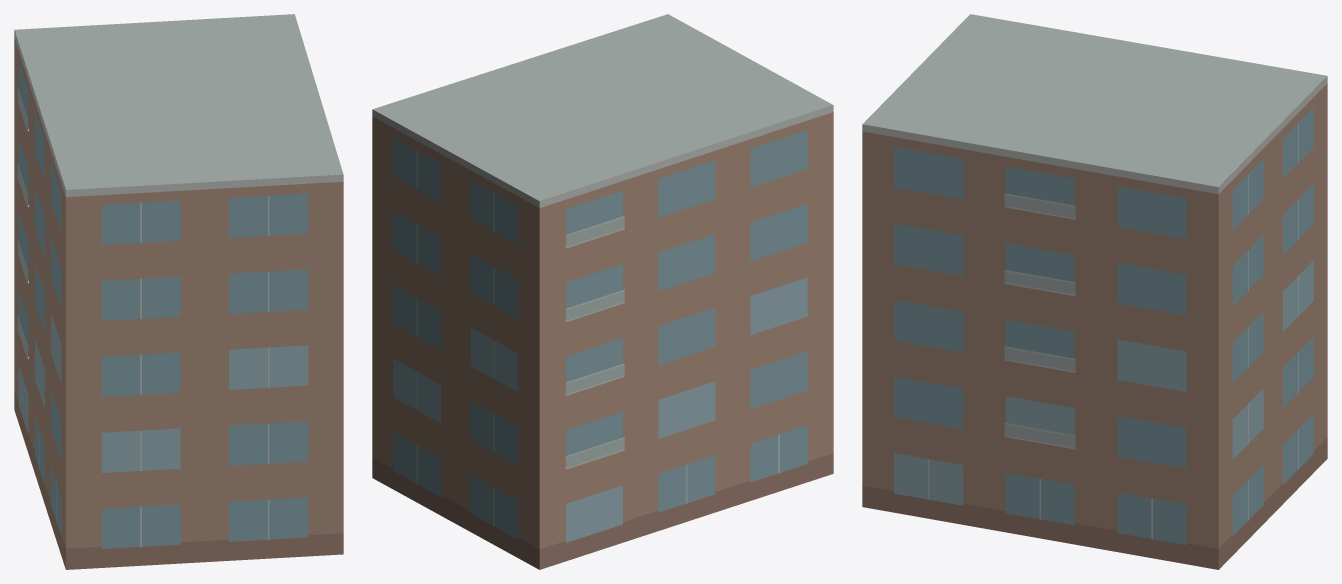
The model's file is survey-upis-32535377.glb.
3 renders of one model, left to right at view 1: azimuth 30°, elevation 25°; view 2: azimuth 150°, elevation 25°; view 3: azimuth 270°, elevation 25°, orthographic. The views are drawn at different scales.
Parts seen in each view (by area): view 1: survey-upis-32535377.tmp; view 2: survey-upis-32535377.tmp; view 3: survey-upis-32535377.tmp.
Boxes of the visible parts, box(x1,y1,x2,y2) form: survey-upis-32535377.tmp: box(14, 14, 343, 569); survey-upis-32535377.tmp: box(372, 14, 833, 569); survey-upis-32535377.tmp: box(862, 14, 1327, 569).
Size of the model in its own units: 12.62 by 13 by 14.33.
